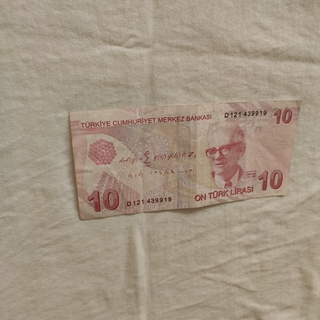10TLBack: (67, 98, 304, 221)
